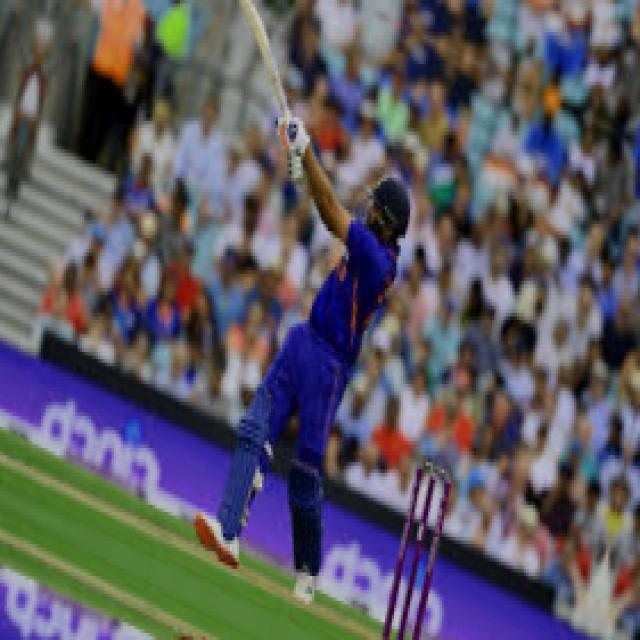toe: (241, 0, 257, 17)
